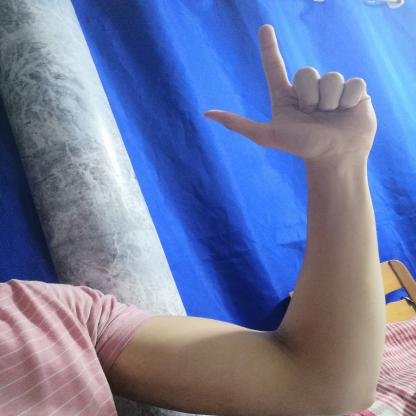LAAM: (184, 13, 398, 174)
